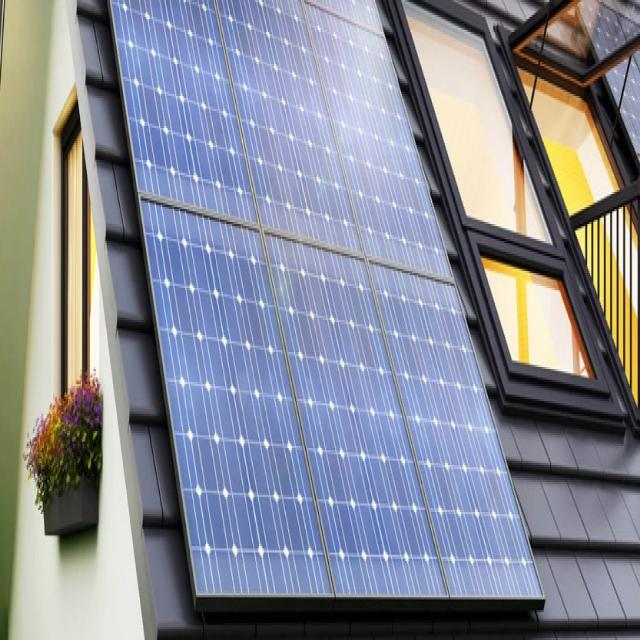clean-solar-panel: (110, 0, 542, 609)
